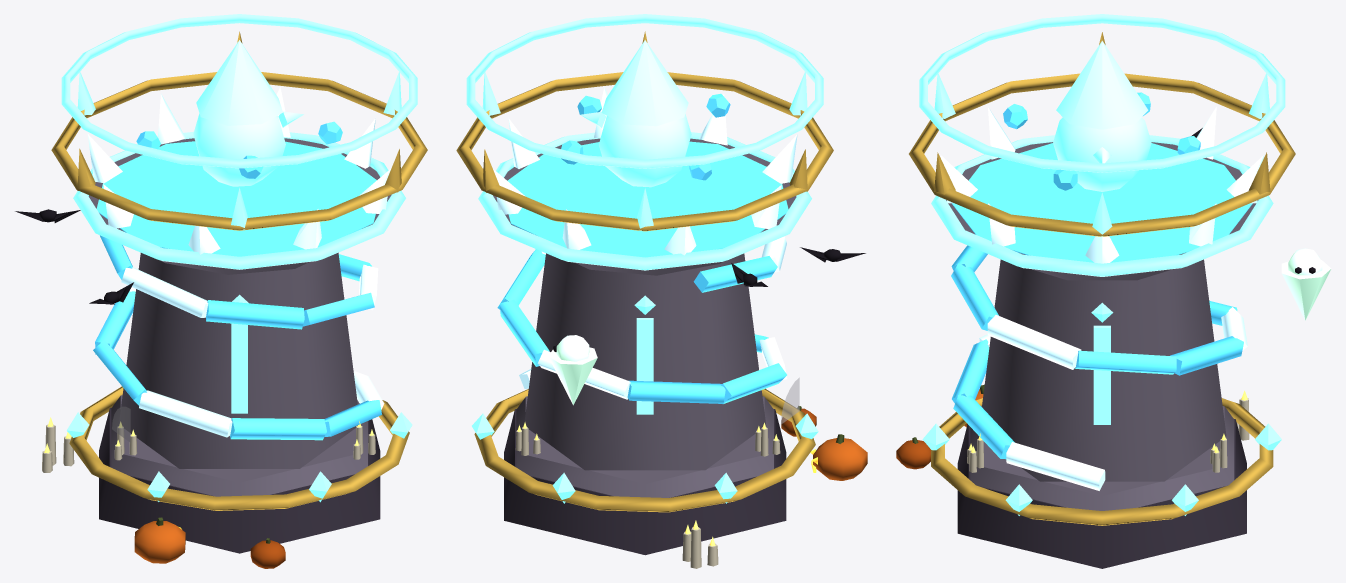
The model's file is tower_element_elementTide_ultimate.glb.
3 renders of one model, left to right at view 1: azimuth 30°, elevation 25°; view 2: azimuth 150°, elevation 25°; view 3: azimuth 270°, elevation 25°, orthographic. The views are drawn at different scales.
Parts seen in each view (by area): view 1: pillar, basin_water, base, ult_crown_band, ult_halo, base_top, ult_ring, basin_rim, crystal_tip, crystal, tide_spiral_11, tide_spiral_2 (+22 smaller); view 2: pillar, basin_water, base, ult_crown_band, ult_halo, base_top, ult_ring, basin_rim, crystal_tip, crystal, tide_spiral_5, deco_hw_jack_body (+18 smaller); view 3: pillar, basin_water, base, ult_crown_band, ult_halo, base_top, ult_ring, basin_rim, crystal_tip, crystal, tide_spiral_0, tide_spiral_9 (+17 smaller).
Boxes of the visible parts, x1=… form: pillar: x1=119, y1=252, x2=357, y2=468; basin_water: x1=96, y1=141, x2=376, y2=256; base: x1=99, y1=407, x2=380, y2=553; ult_crown_band: x1=51, y1=72, x2=427, y2=230; ult_halo: x1=61, y1=14, x2=417, y2=168; base_top: x1=111, y1=395, x2=367, y2=496; ult_ring: x1=69, y1=386, x2=409, y2=510; basin_rim: x1=73, y1=131, x2=405, y2=269; crystal_tip: x1=196, y1=40, x2=282, y2=125; crystal: x1=193, y1=113, x2=285, y2=186; tide_spiral_11: x1=206, y1=300, x2=304, y2=329; tide_spiral_2: x1=230, y1=418, x2=326, y2=440; pillar: x1=524, y1=253, x2=766, y2=470; basin_water: x1=507, y1=141, x2=788, y2=257; base: x1=504, y1=409, x2=786, y2=555; ult_crown_band: x1=456, y1=72, x2=833, y2=231; ult_halo: x1=466, y1=14, x2=823, y2=168; base_top: x1=516, y1=396, x2=773, y2=497; ult_ring: x1=474, y1=388, x2=815, y2=512; basin_rim: x1=478, y1=132, x2=811, y2=270; crystal_tip: x1=601, y1=40, x2=688, y2=126; crystal: x1=599, y1=114, x2=691, y2=187; tide_spiral_5: x1=627, y1=380, x2=725, y2=403; deco_hw_jack_body: x1=813, y1=438, x2=867, y2=480; pillar: x1=978, y1=259, x2=1226, y2=481; basin_water: x1=952, y1=143, x2=1252, y2=262; base: x1=957, y1=419, x2=1246, y2=568; ult_crown_band: x1=909, y1=73, x2=1295, y2=236; ult_halo: x1=919, y1=14, x2=1285, y2=172; base_top: x1=970, y1=406, x2=1234, y2=510; ult_ring: x1=931, y1=398, x2=1273, y2=525; basin_rim: x1=931, y1=135, x2=1273, y2=276; crystal_tip: x1=1056, y1=40, x2=1148, y2=129; crystal: x1=1053, y1=117, x2=1151, y2=191; tide_spiral_0: x1=1006, y1=442, x2=1105, y2=490; tide_spiral_9: x1=987, y1=315, x2=1081, y2=369.
Size of the model in its own units: 0.484 by 0.59 by 0.508.
